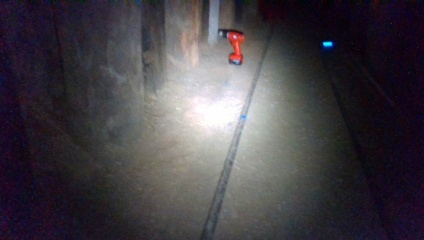drill: (216, 28, 245, 65)
